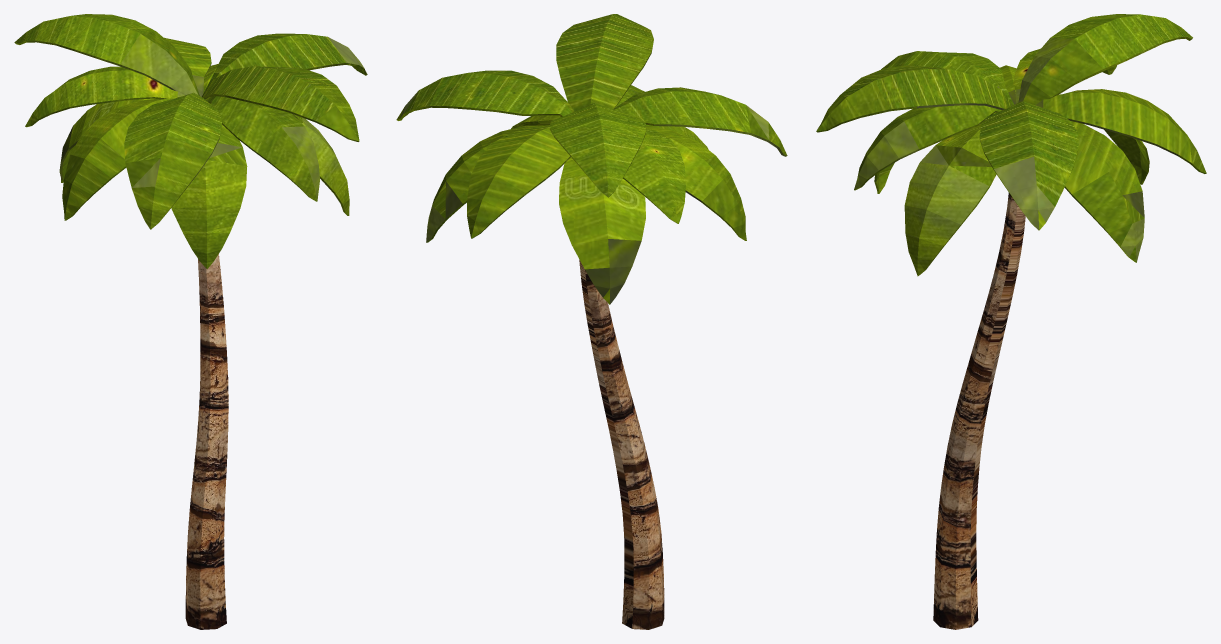
Rendered from Palm_Tree.obj.
3 views of the same model, side by side, from view 1: azimuth 30°, elevation 25°; view 2: azimuth 150°, elevation 25°; view 3: azimuth 270°, elevation 25° (orthographic). The views are drawn at different scales.
Visible parts, largest first — view 1: hojas_Cylinder, tronco_Cylinder.003; view 2: hojas_Cylinder, tronco_Cylinder.003; view 3: hojas_Cylinder, tronco_Cylinder.003.
Boxes of the visible parts, <box> form: hojas_Cylinder: <box>14,14,367,268</box>; tronco_Cylinder.003: <box>185,254,228,629</box>; hojas_Cylinder: <box>396,14,787,304</box>; tronco_Cylinder.003: <box>579,259,664,629</box>; hojas_Cylinder: <box>816,14,1206,276</box>; tronco_Cylinder.003: <box>933,192,1025,629</box>.
Size of the model in its own units: 3.28 by 5.4 by 3.27.
2 materials, 2 textured.
